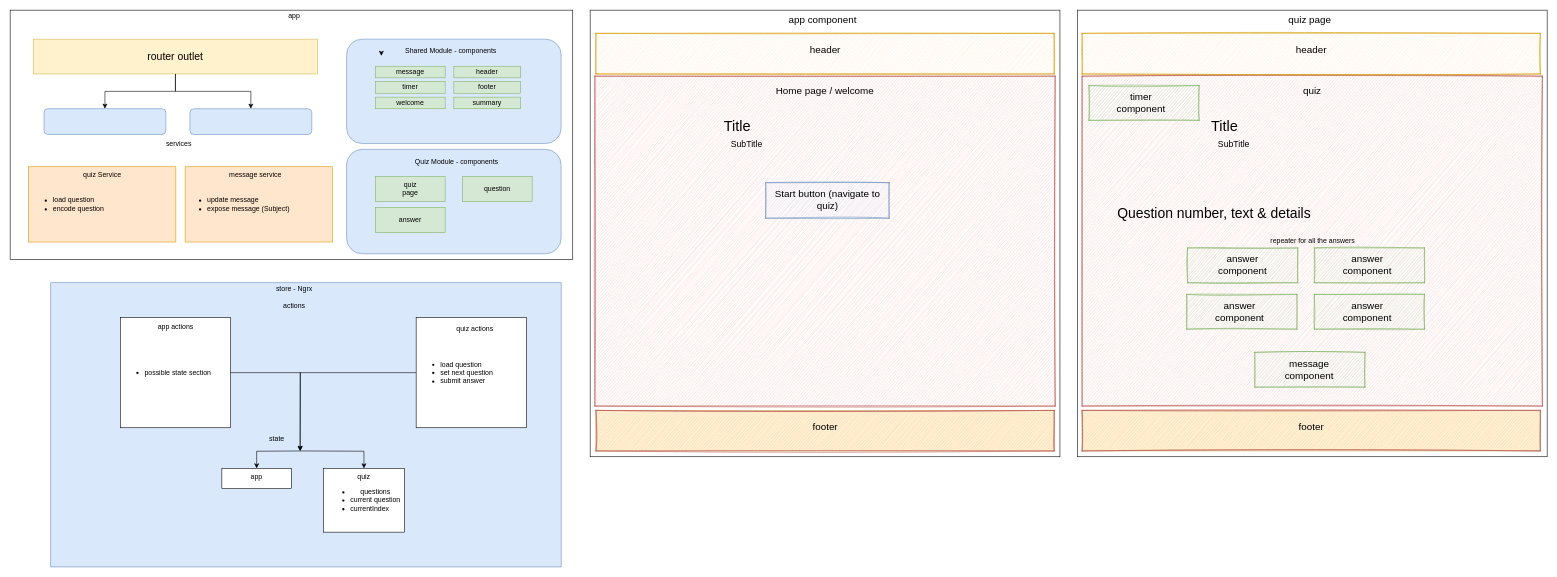
Some shapes in this 1557 by 577 pixel diagram are drawn without their labels. Each missing label, with the centre of its shape:
"Quiz Module (lazy loaded)" belongs at [104,121].
"welcome/home component" belongs at [250,121].
